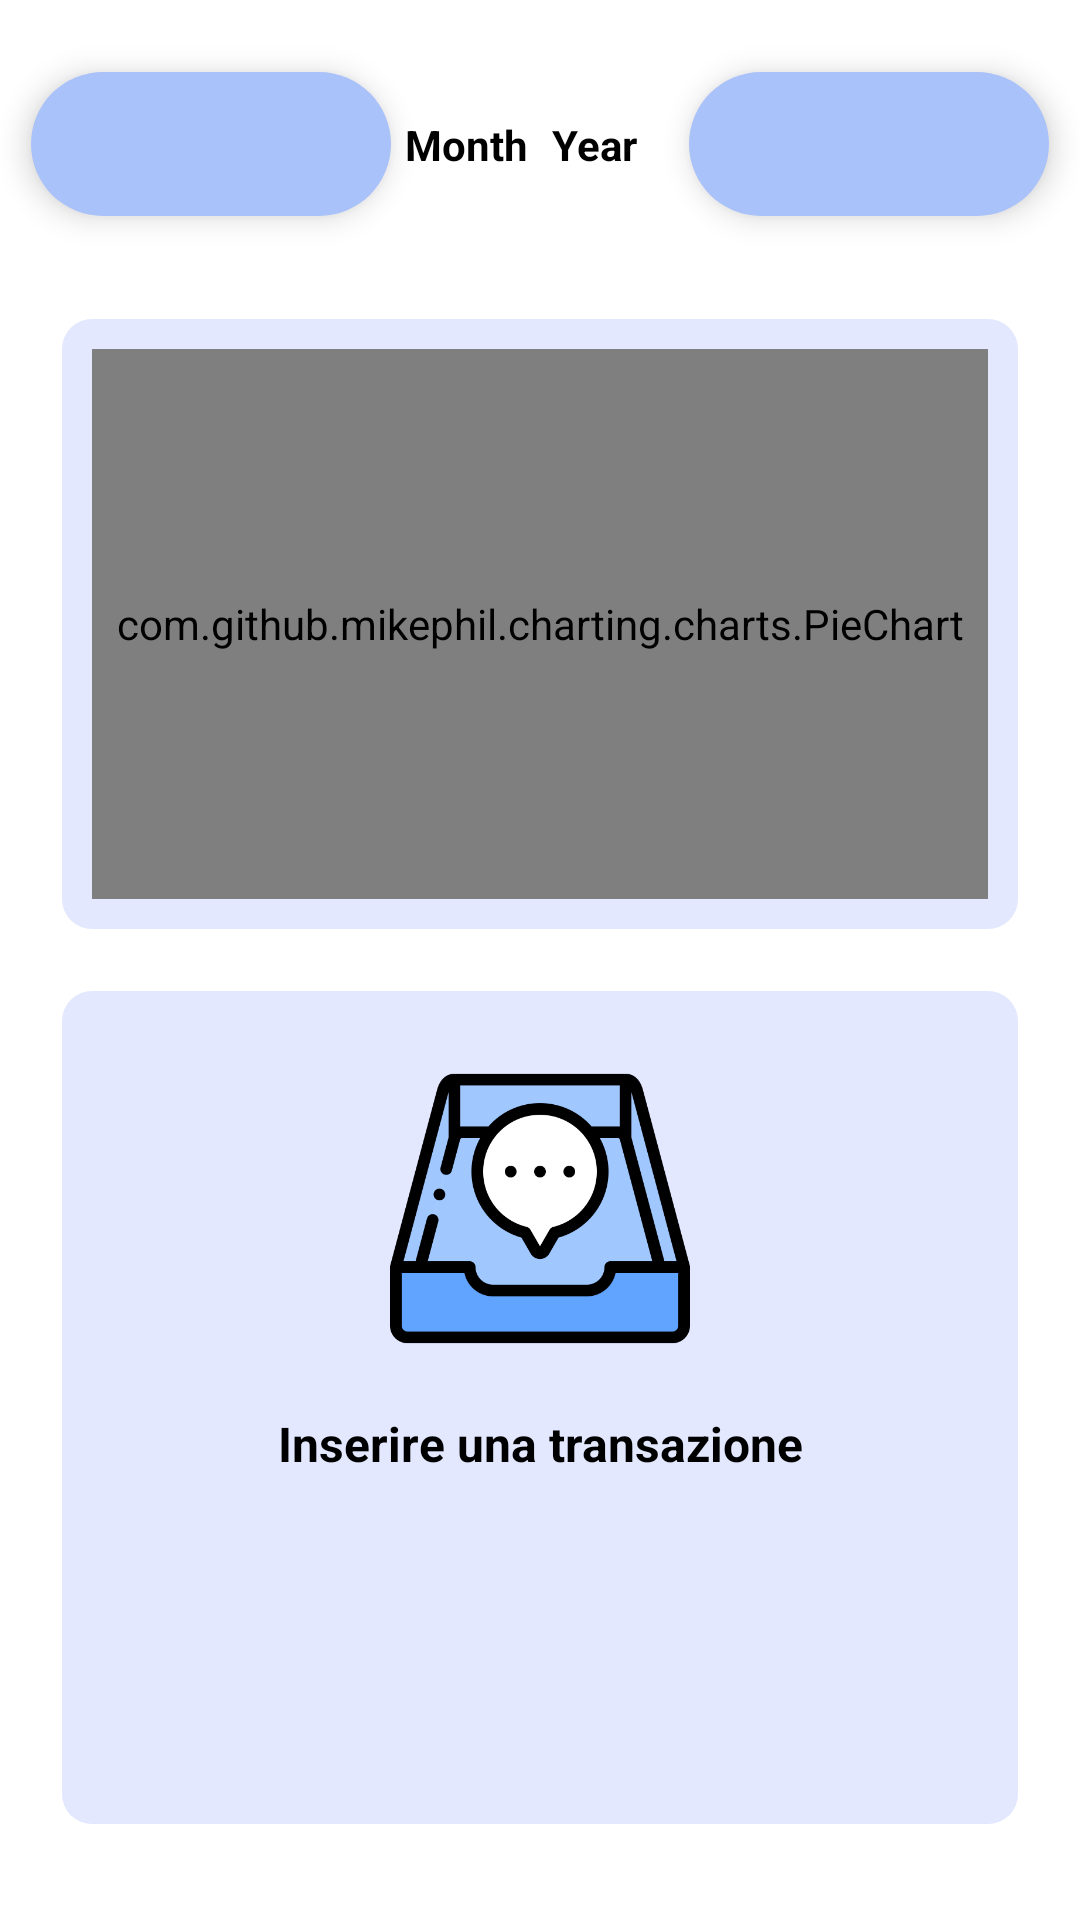

Icons on this 1080 × 1920 Android screen, each with its box as [x1,y1,x2,y2]:
empty: [390,1073,690,1344]
